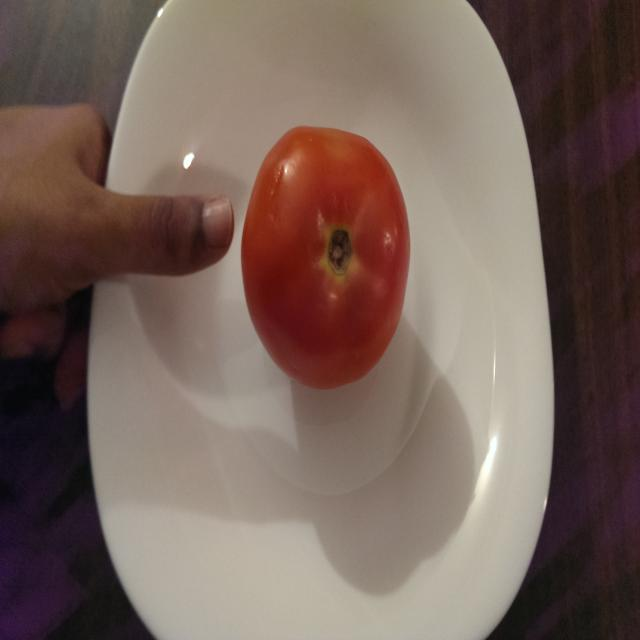tomato: (240, 125, 411, 390)
